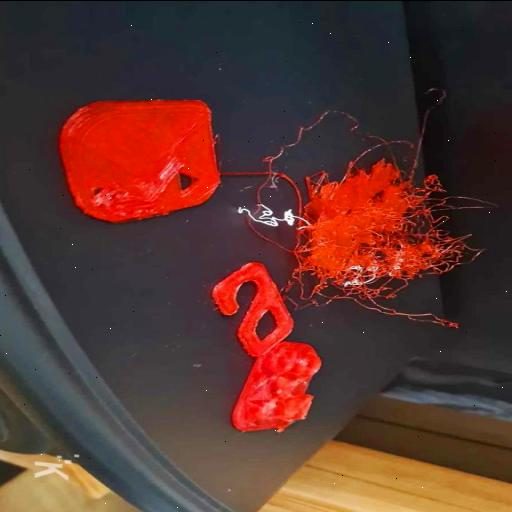spaghetti: (290, 98, 496, 326)
